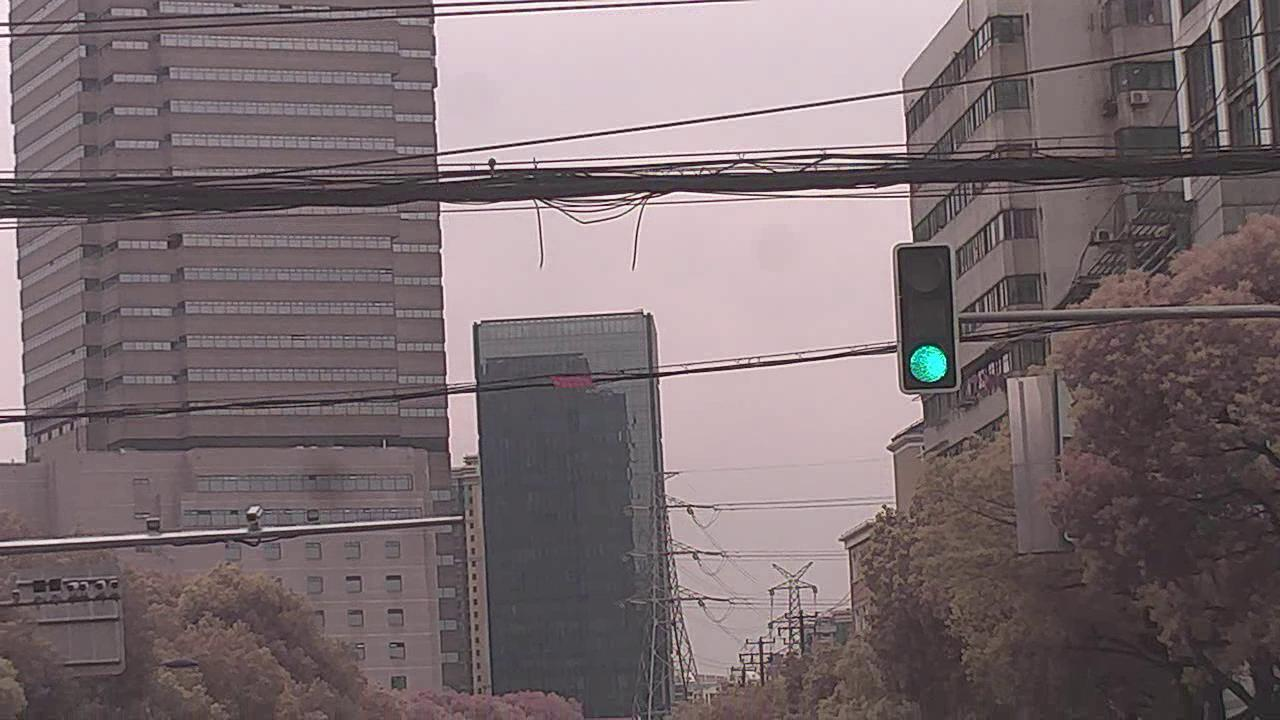traffic_light: (894, 242, 960, 394)
